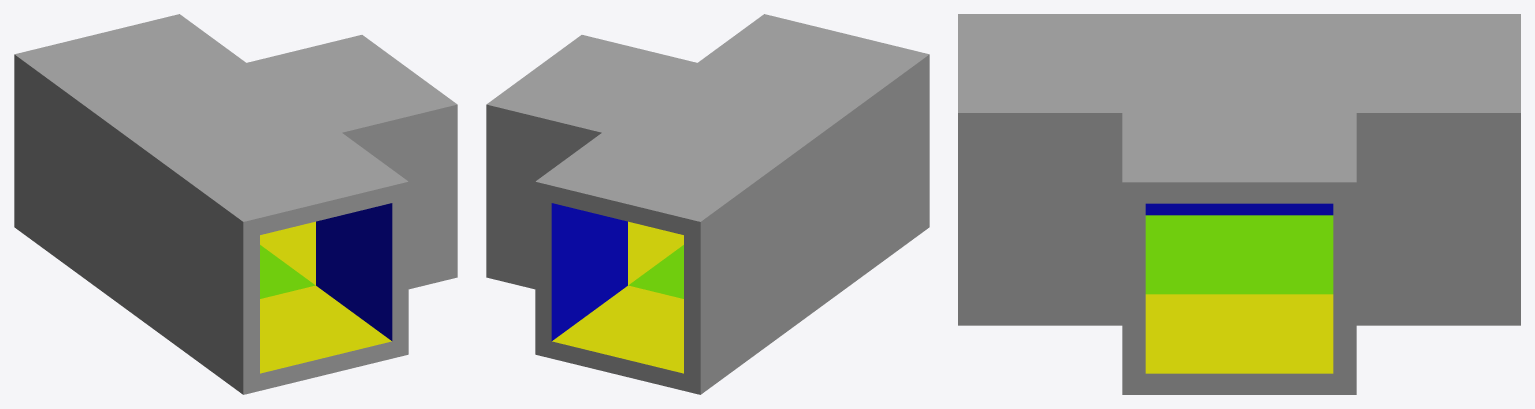
File: T split.fbx
3 renders of one model, left to right at view 1: azimuth 30°, elevation 25°; view 2: azimuth 150°, elevation 25°; view 3: azimuth 270°, elevation 25°, orthographic. The views are drawn at different scales.
Visible parts, largest first — view 1: T_Split_hollow; view 2: T_Split_hollow; view 3: T_Split_hollow.
Part boxes in pixels (bbox=[...]): T_Split_hollow: bbox=[14, 14, 457, 394]; T_Split_hollow: bbox=[486, 14, 929, 394]; T_Split_hollow: bbox=[958, 14, 1520, 394].
Size of the model in its own units: 0.085 by 0.05 by 0.12.
